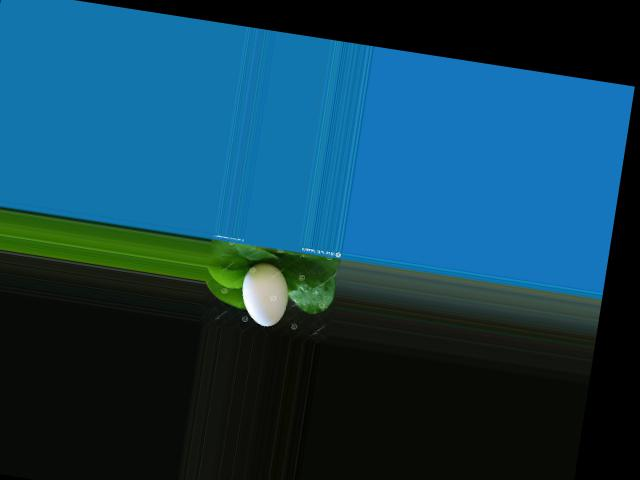egg: (236, 259, 292, 328)
